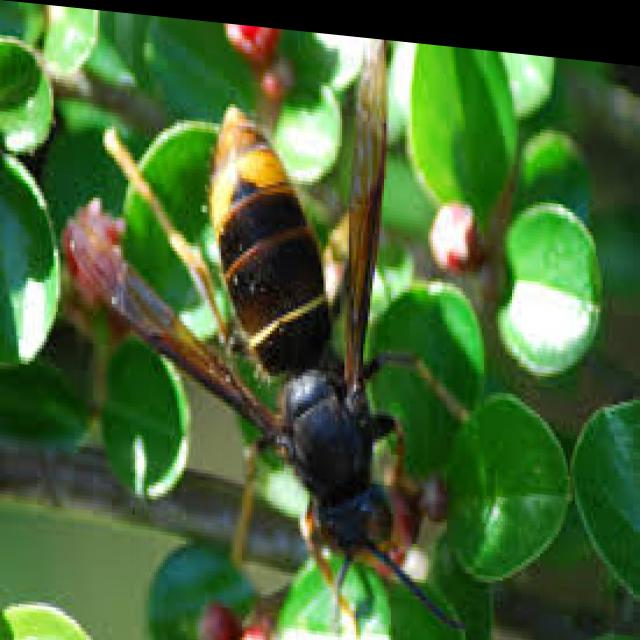Vespa Velutina: (54, 4, 475, 639)
